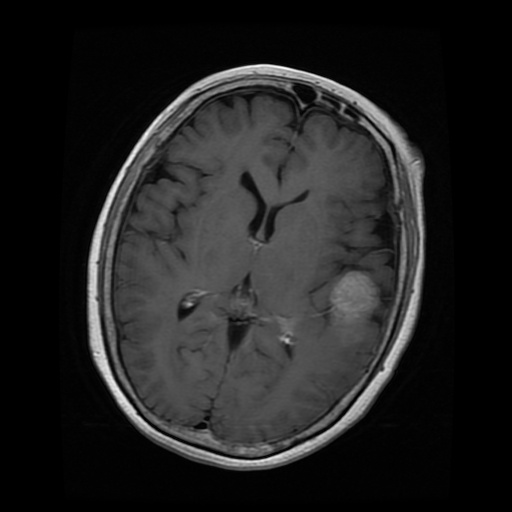meningioma: (329, 270, 378, 318)
